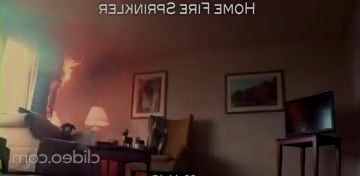fire: (43, 43, 95, 101)
